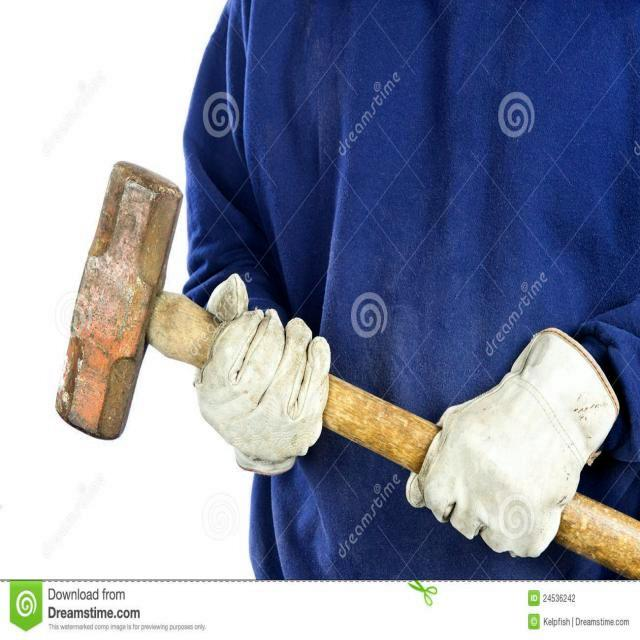hammer: (48, 150, 640, 580)
